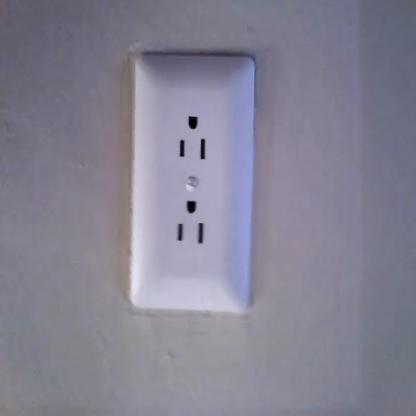OUTLET: (132, 54, 258, 313)
